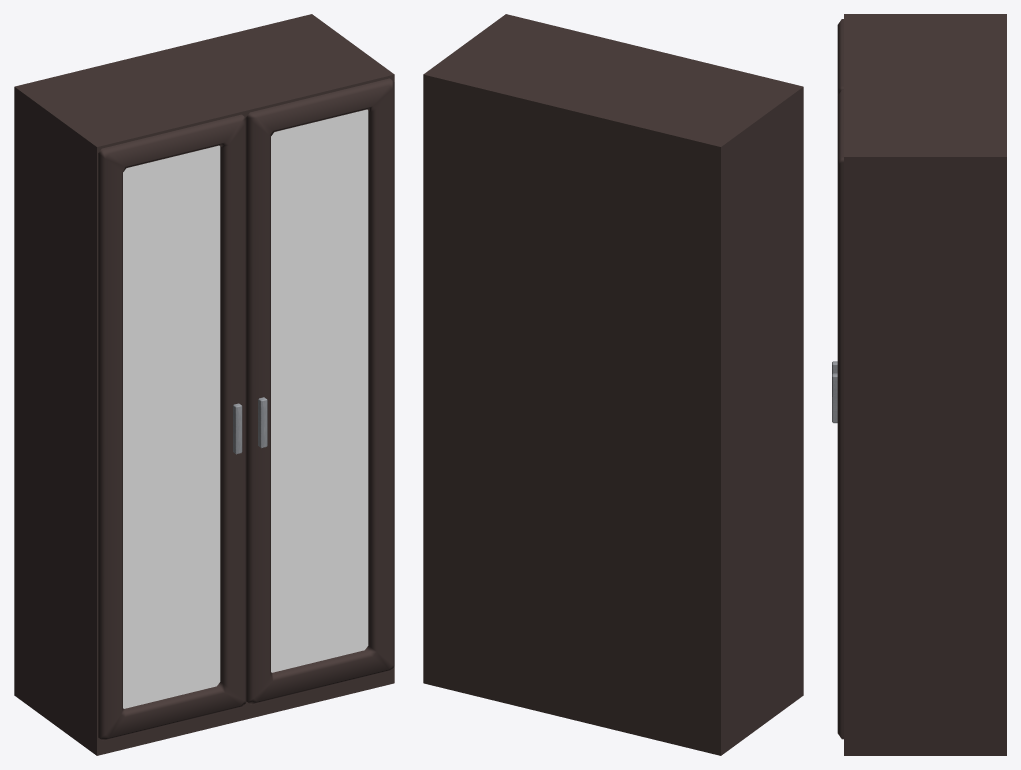
Rendered from cupboard_004.fbx.
3 views of the same model, side by side, from view 1: azimuth 30°, elevation 25°; view 2: azimuth 150°, elevation 25°; view 3: azimuth 270°, elevation 25° (orthographic).
Visible parts, largest first — view 1: cupboard_004; view 2: cupboard_004; view 3: cupboard_004.
Part boxes in pixels (x1,y1,x2,y2): cupboard_004: (14, 14, 394, 755); cupboard_004: (423, 14, 803, 755); cupboard_004: (832, 14, 1006, 755).
Bounding box in the file's own units: 138 × 71.51 × 271.
